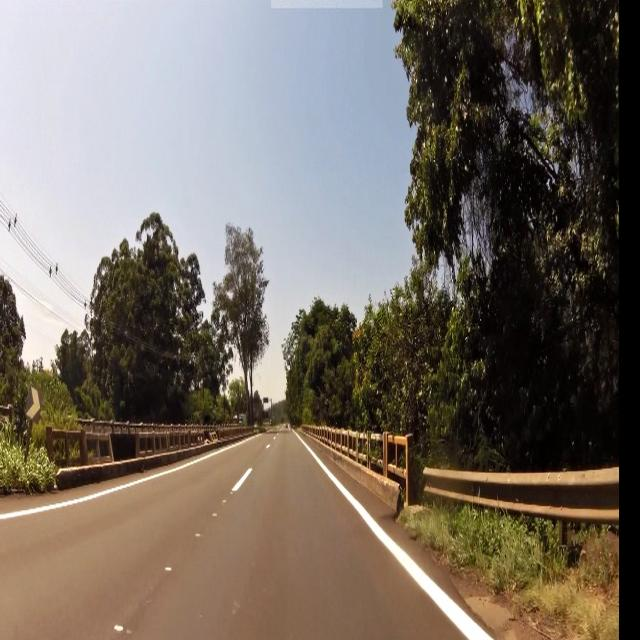Del: (28, 381, 42, 424)
